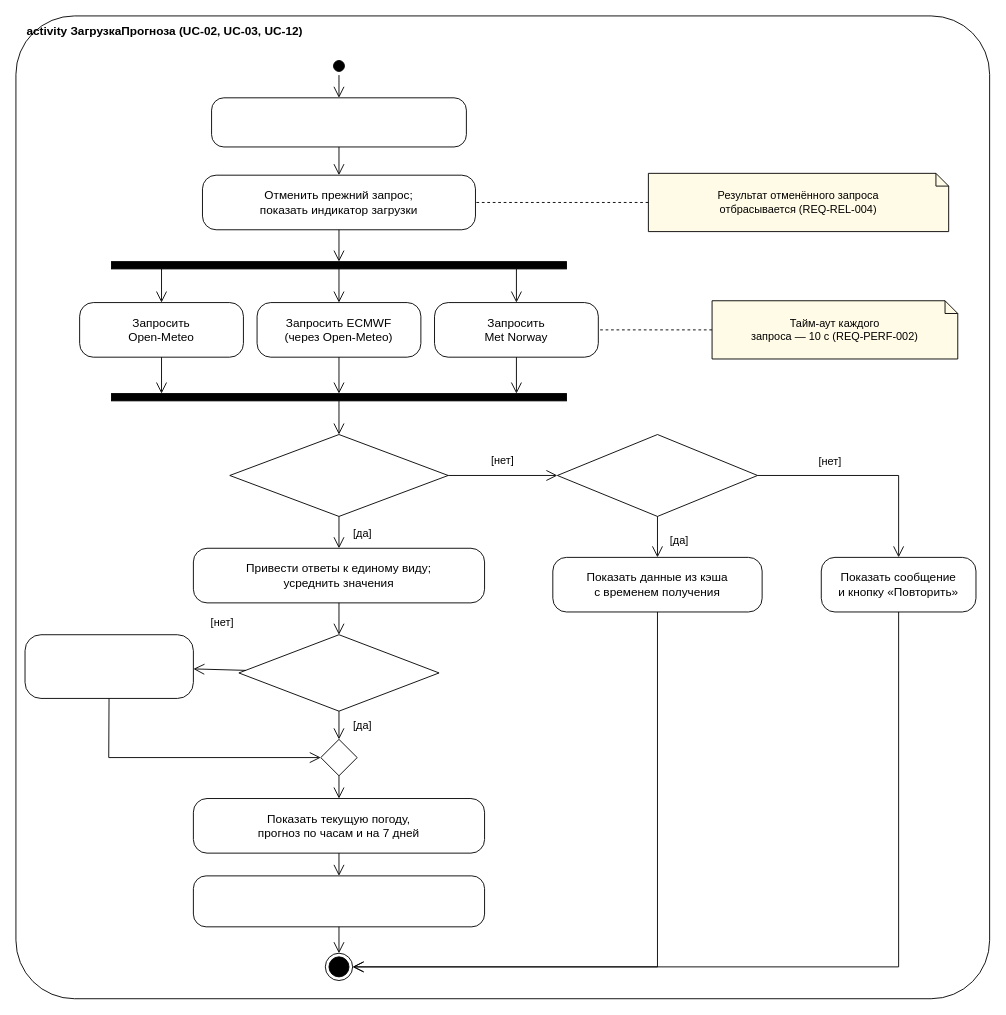
The diagram is 1006 pixels wide and 1015 high, and some of its shapes have lost their labels. Here are the shapes that lost their labels. From the top down, the centre of each, then its label:
At (x=338, y=122): "Выбрать город из списка подсказок".
At (x=338, y=475): "Ответил хотя бы один источник?".
At (x=657, y=475): "Есть кэш не старше 24 ч? (1.1)".
At (x=108, y=666): "Показать «Источников: N из 3»; записать ошибку в журнал".
At (x=338, y=672): "Ответили все 3 источника?".
At (x=338, y=901): "Сохранить город в настройках; обновить кэш".
